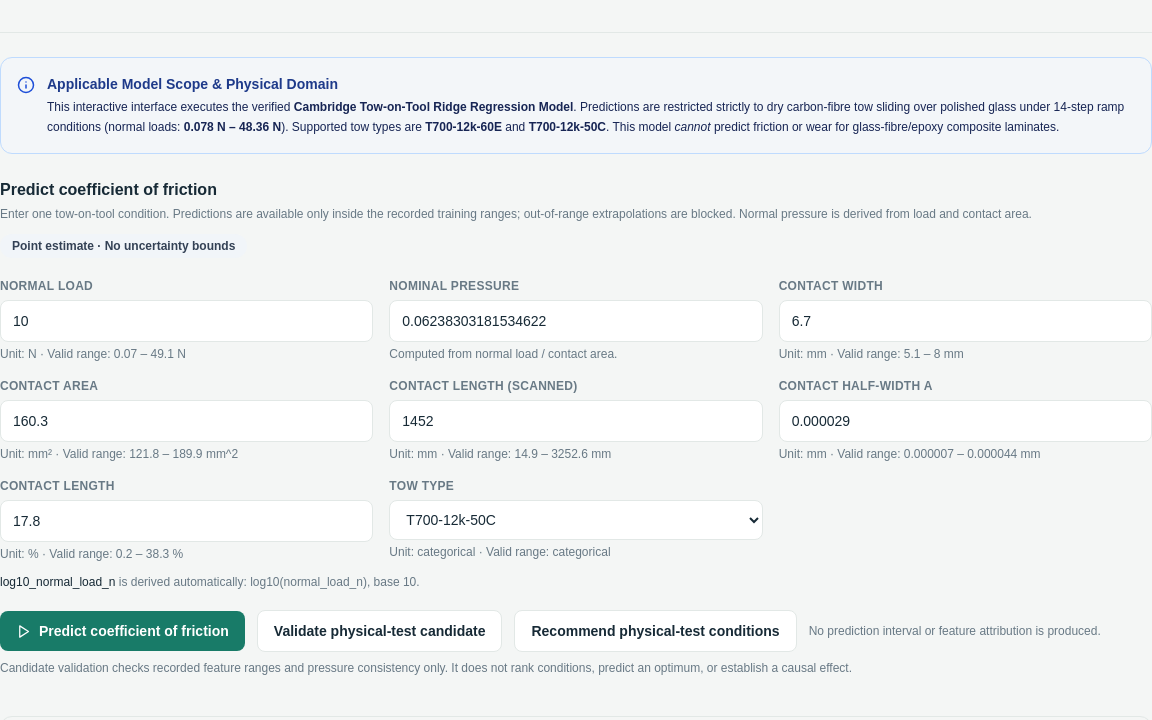
CofPredictionForm › renders ranked candidate recommendations with caution notices and disclaimers
Click the button "Recommend physical-test conditions" at (656, 631), box [514,610,797,652]
(page scrolled)
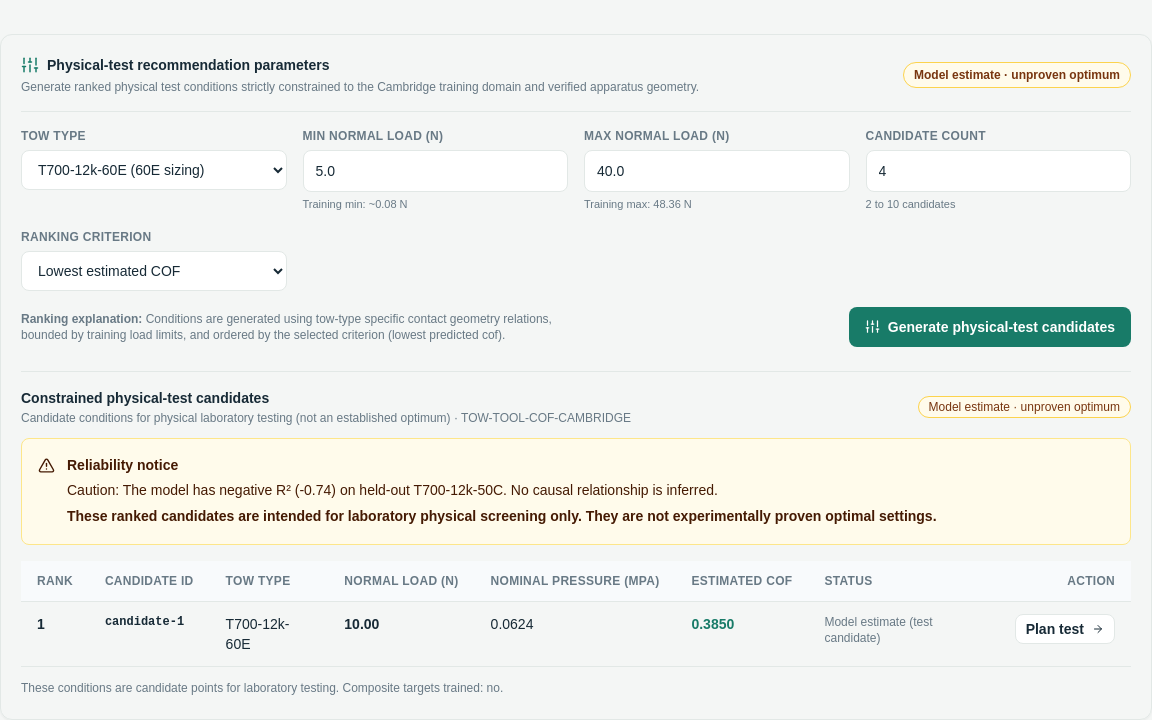
Expected: the element with test id "cof-recommendations-panel" is shown, [21,370,1131,698]
Expected: the heading "Constrained physical-test candidates" is shown, [21,390,269,406]
Expected: the text "negative R² (-0.74)" is shown, [67,482,507,498]
